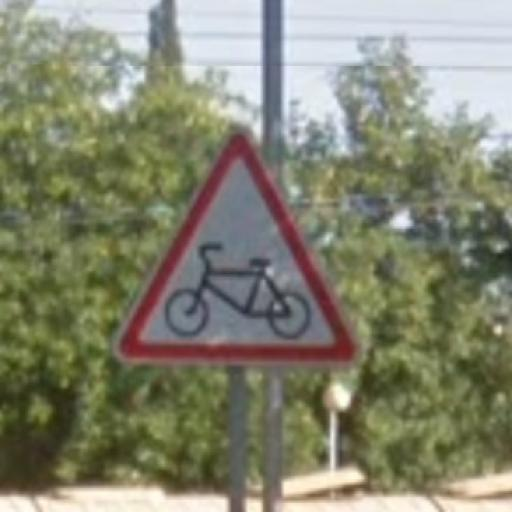traffic_sign: (110, 127, 363, 369)
